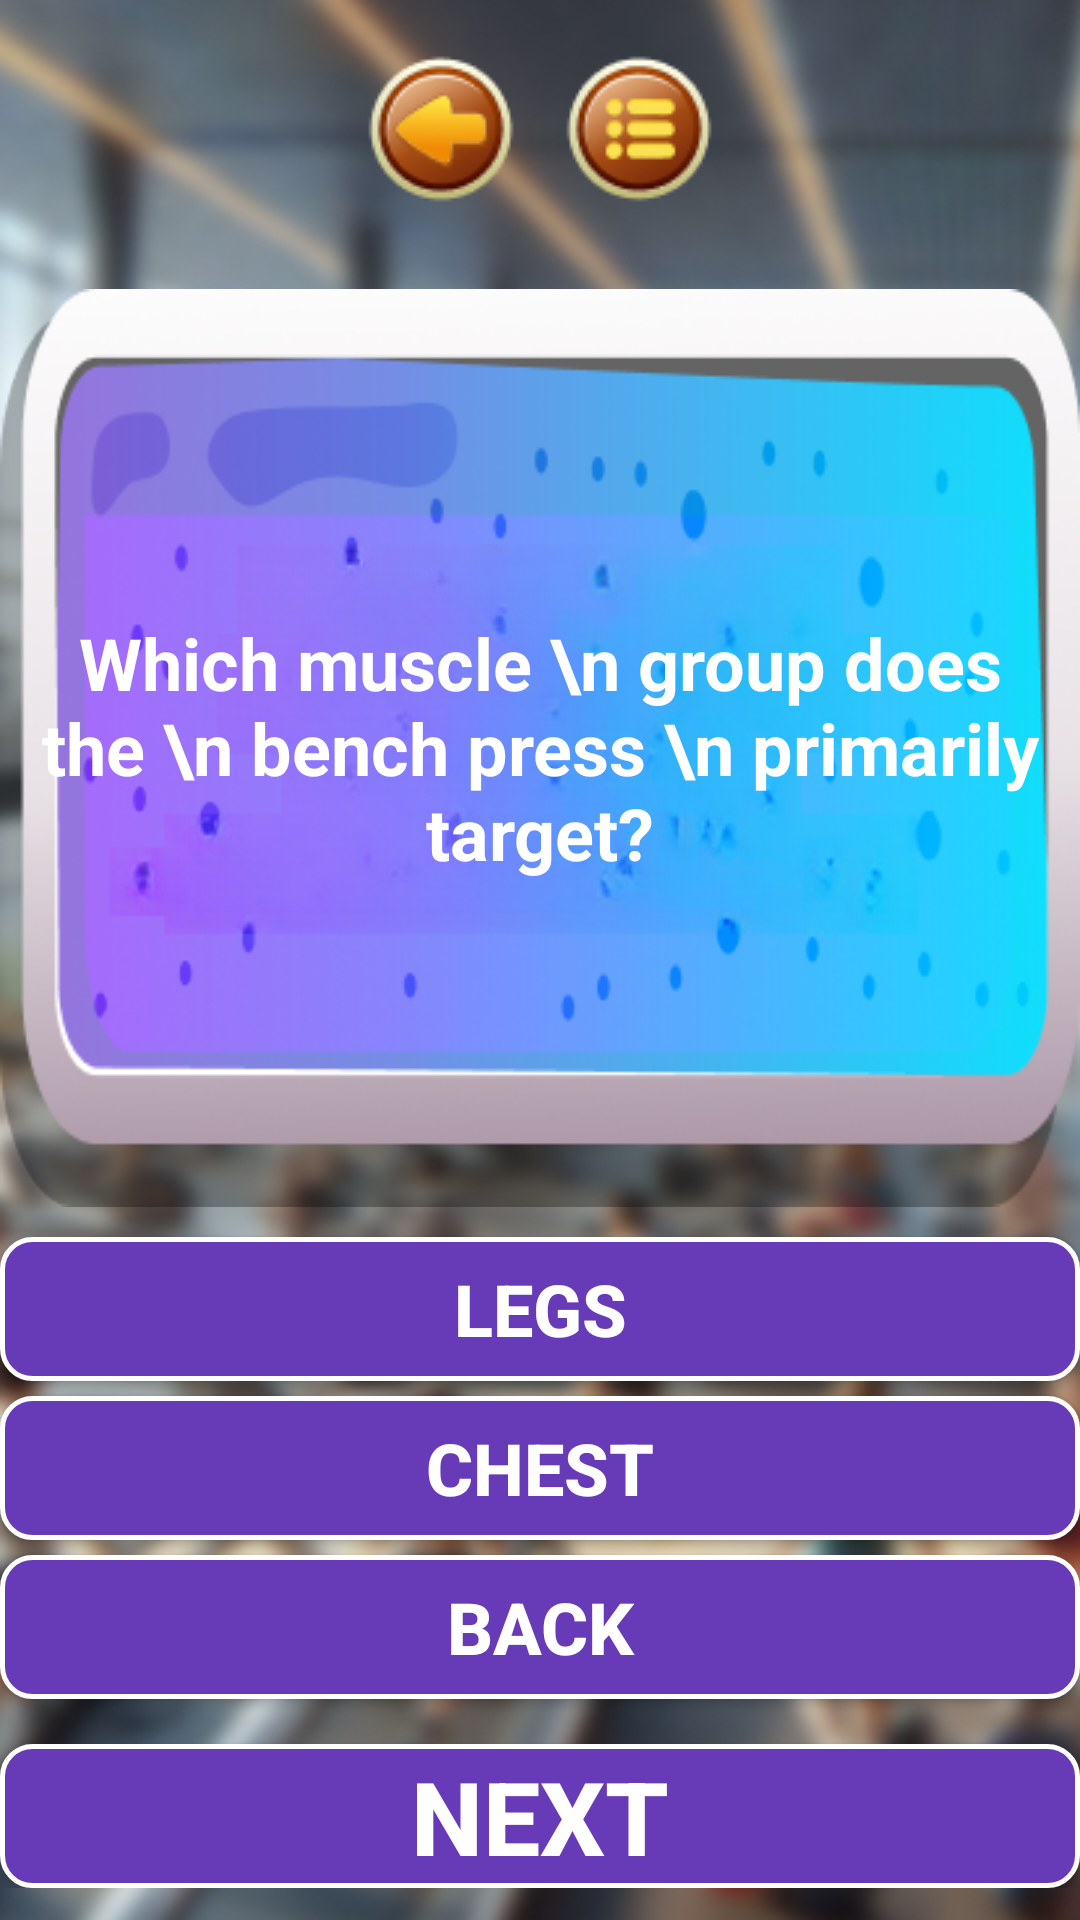

Named icons in this screenshot (1080px×1920px) and their centers, (x=x, y=y):
backbtn: (x=441, y=129)
menubtn: (x=633, y=129)
